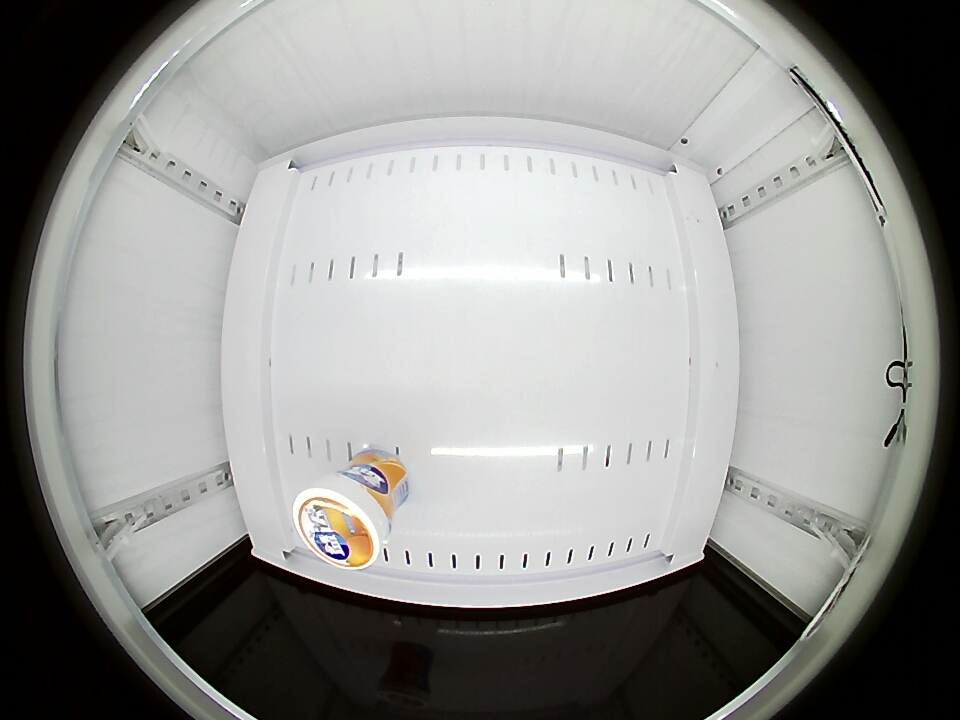yida: (292, 475, 391, 570)
